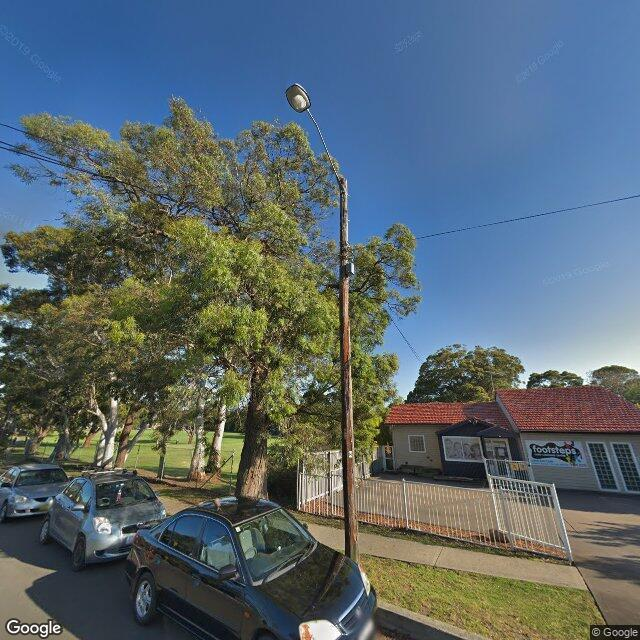streetlight: (285, 82, 345, 192)
timber-pole: (339, 178, 359, 564)
